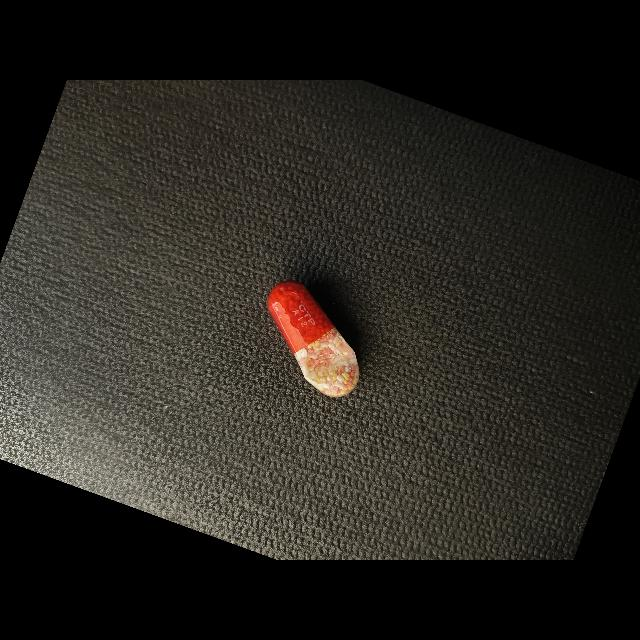Defective Capsule: (267, 281, 360, 397)
